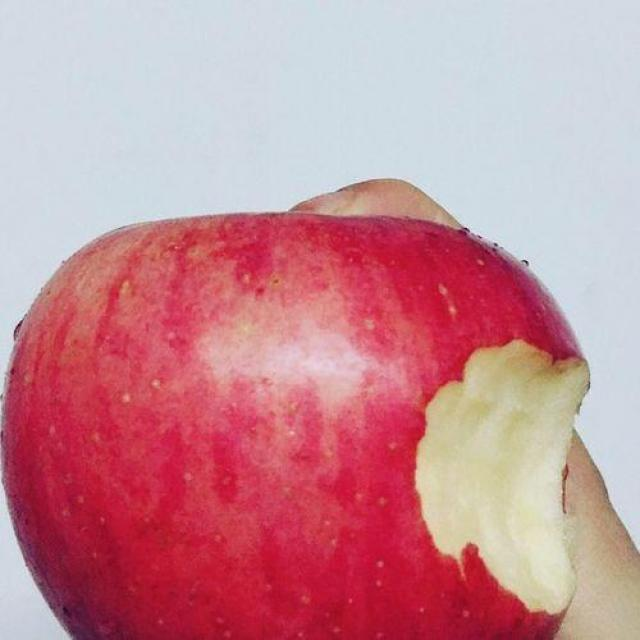Rotten: (0, 193, 603, 640)
